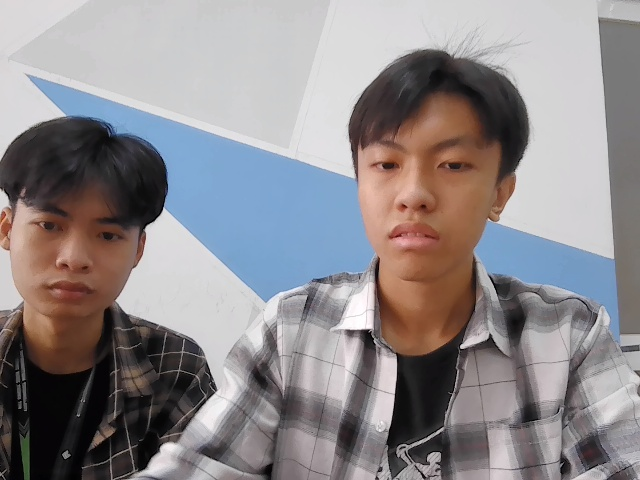human: (341, 38, 534, 289), (5, 117, 160, 315)
